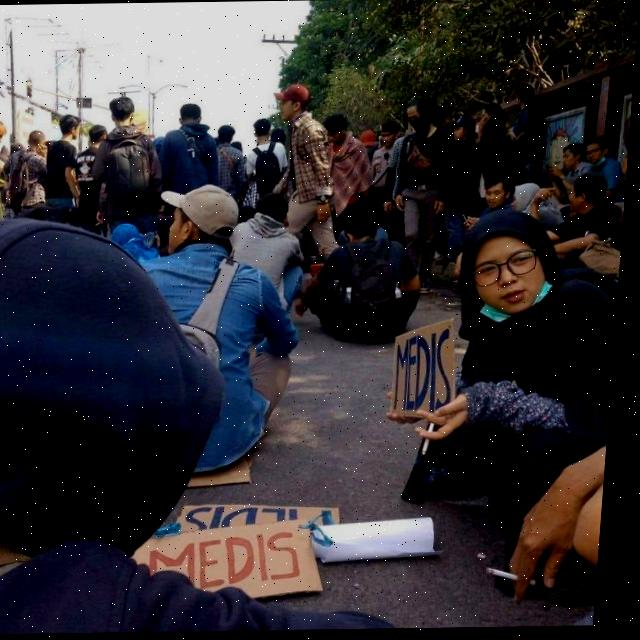cigarette: (494, 569, 546, 588), (428, 425, 442, 457)
